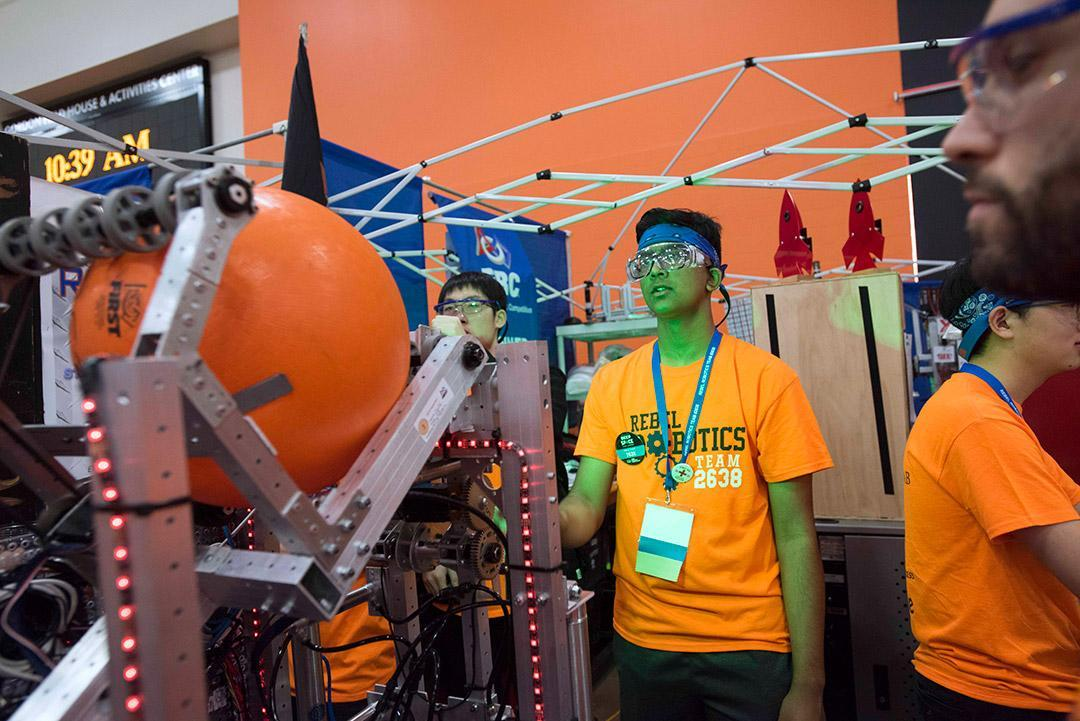robot: (0, 149, 593, 721)
